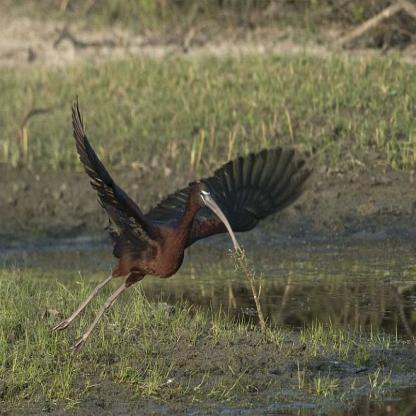Burung: (48, 98, 312, 358)
